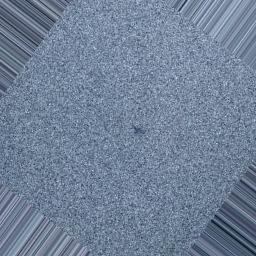Airplane: (129, 122, 149, 138)
